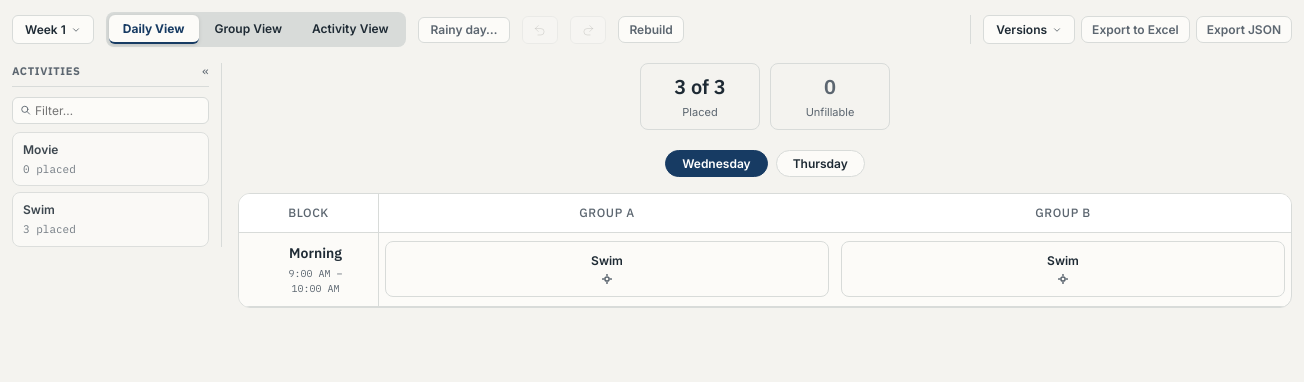
Rainy day… › a write that fails mid-batch rolls the landed writes back, shows an error, and leaves the cells as they were
Expected: the button "Daily View" is shown, x1=109 y1=15 x2=198 y2=44
Click the button "Rainy day…": {"x": 464, "y": 30} x1=418 y1=16 x2=510 y2=42
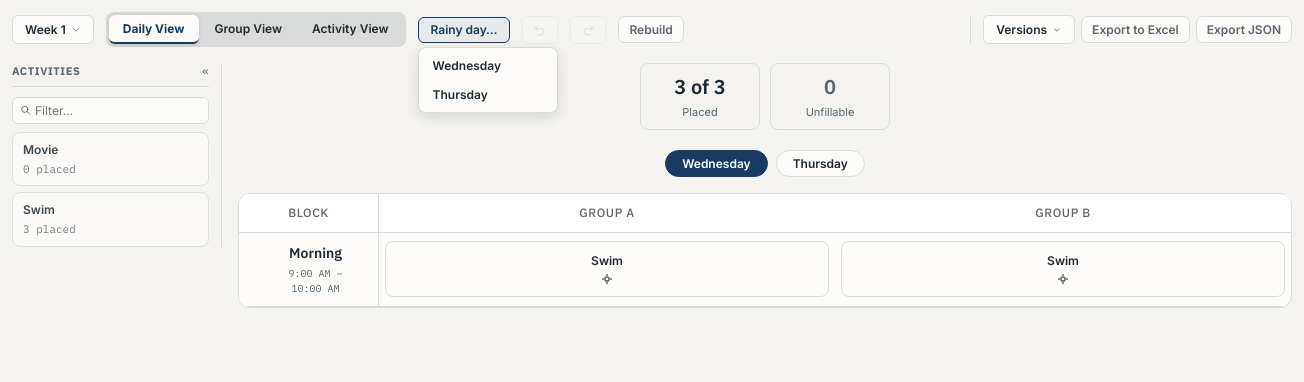
Click the 1st button "Wednesday": {"x": 488, "y": 65} x1=423 y1=52 x2=553 y2=78
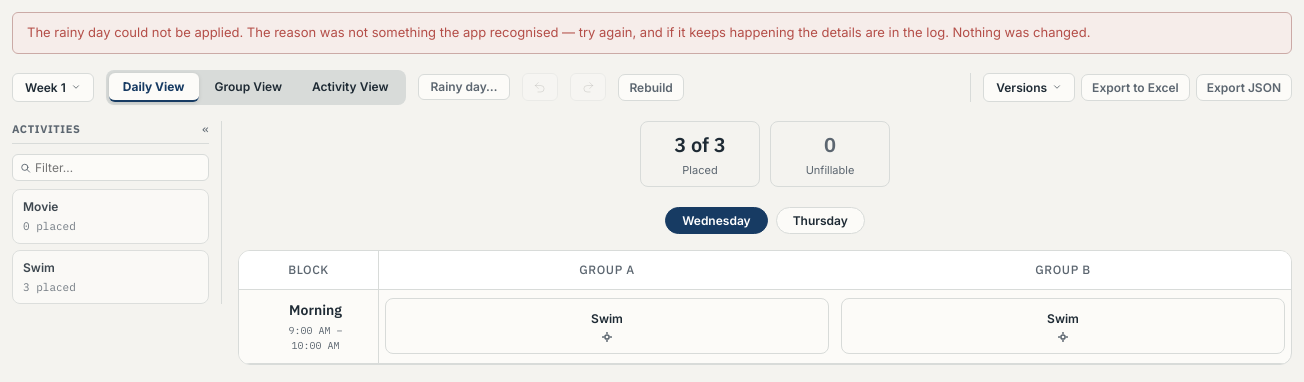
Result: the text "could not be applied" is shown at x1=27 y1=24 x2=1090 y2=40
